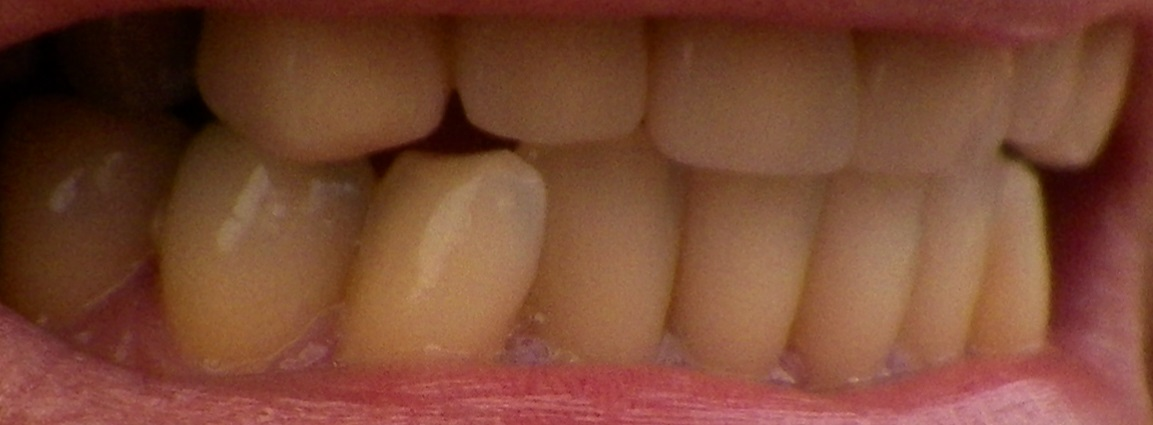boca: (13, 6, 1120, 375)
